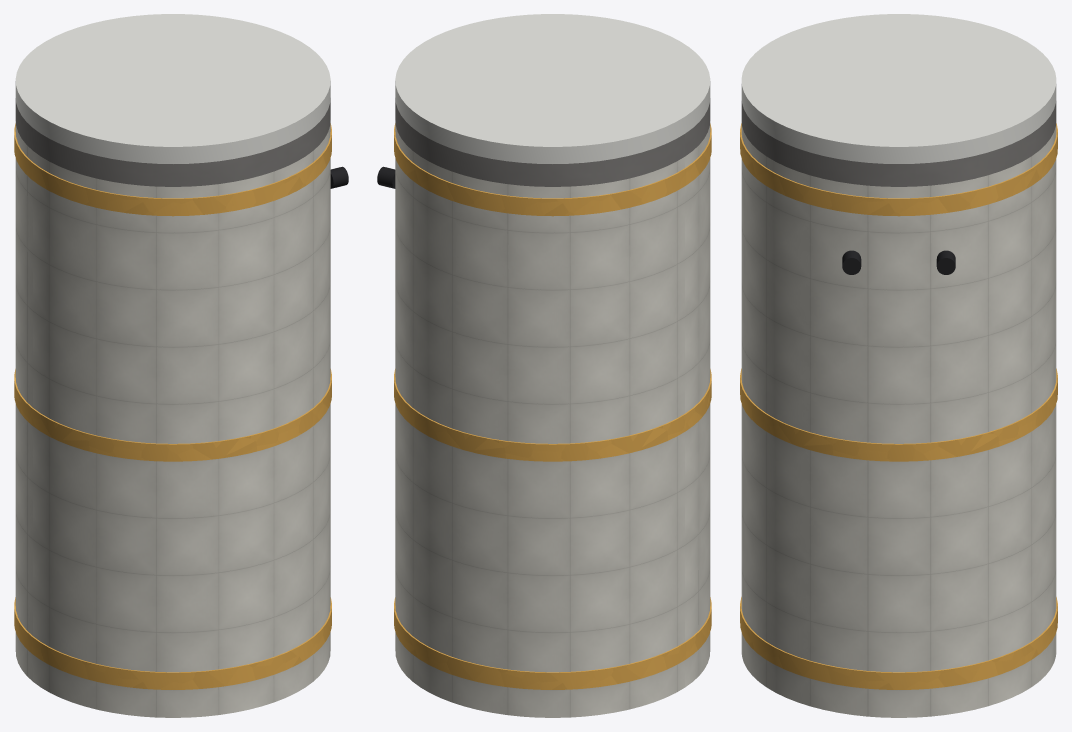
Rendered from sci05_survey_telescope_s.glb.
3 renders of one model, left to right at view 1: azimuth 30°, elevation 25°; view 2: azimuth 150°, elevation 25°; view 3: azimuth 270°, elevation 25°, orthographic.
Parts seen in each view (by area): view 1: tube, door, tube_bands, baffle; view 2: tube, door, tube_bands, baffle; view 3: tube, door, tube_bands, baffle, star_trackers.
Boxes of the visible parts, x1,y1,x2,y2 form: tube: (15,120,330,717); door: (15,14,330,163); tube_bands: (14,123,331,689); baffle: (15,98,330,186); tube: (395,120,710,717); door: (395,14,710,163); tube_bands: (394,123,711,689); baffle: (395,98,710,186); tube: (741,124,1056,717); door: (741,14,1056,163); tube_bands: (740,123,1057,689); baffle: (741,101,1056,186); star_trackers: (842,250,955,274).
Size of the model in its own units: 1.31 by 2.5 by 1.26.
7 materials, 3 textured.
